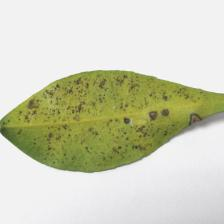canker: (43, 81, 146, 149)
